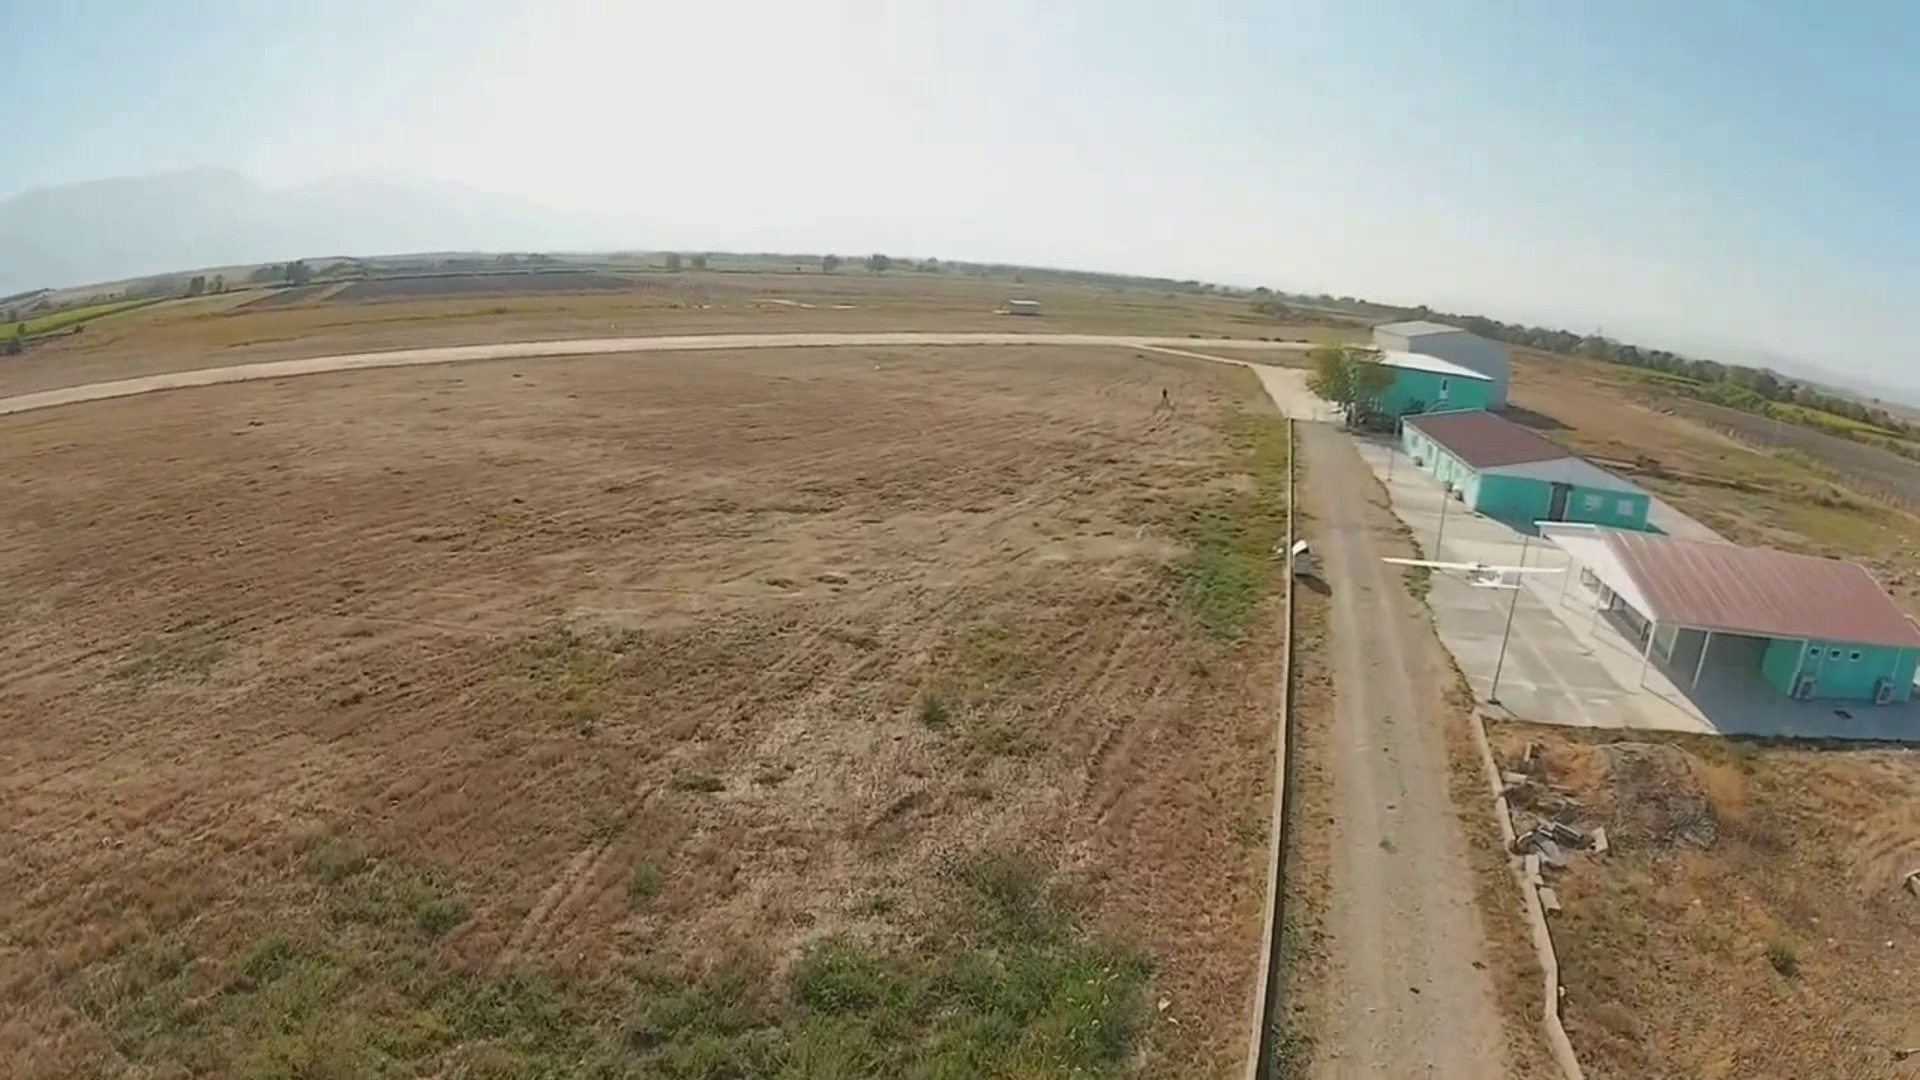airplane: (1398, 407, 1918, 744)
